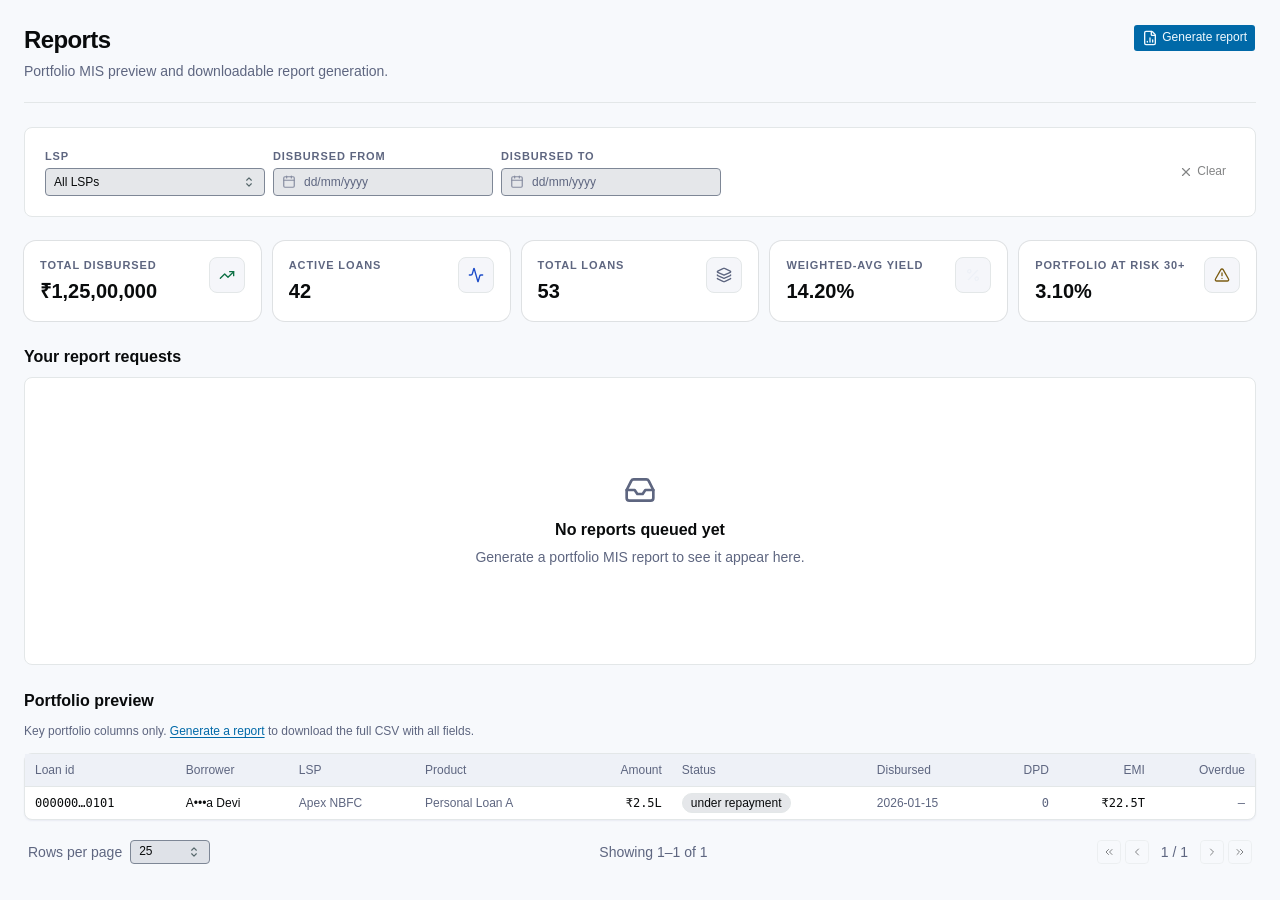
it: ReportsPage — create flow › opens the dialog, submits the form, and the new QUEUED request appears in the list
Expected: the element with test id "mis-kpi-total-loans" is shown, [522,241,758,321]
Click the button "Generate report". click: x=1195, y=38
box: [1133,24,1256,52]
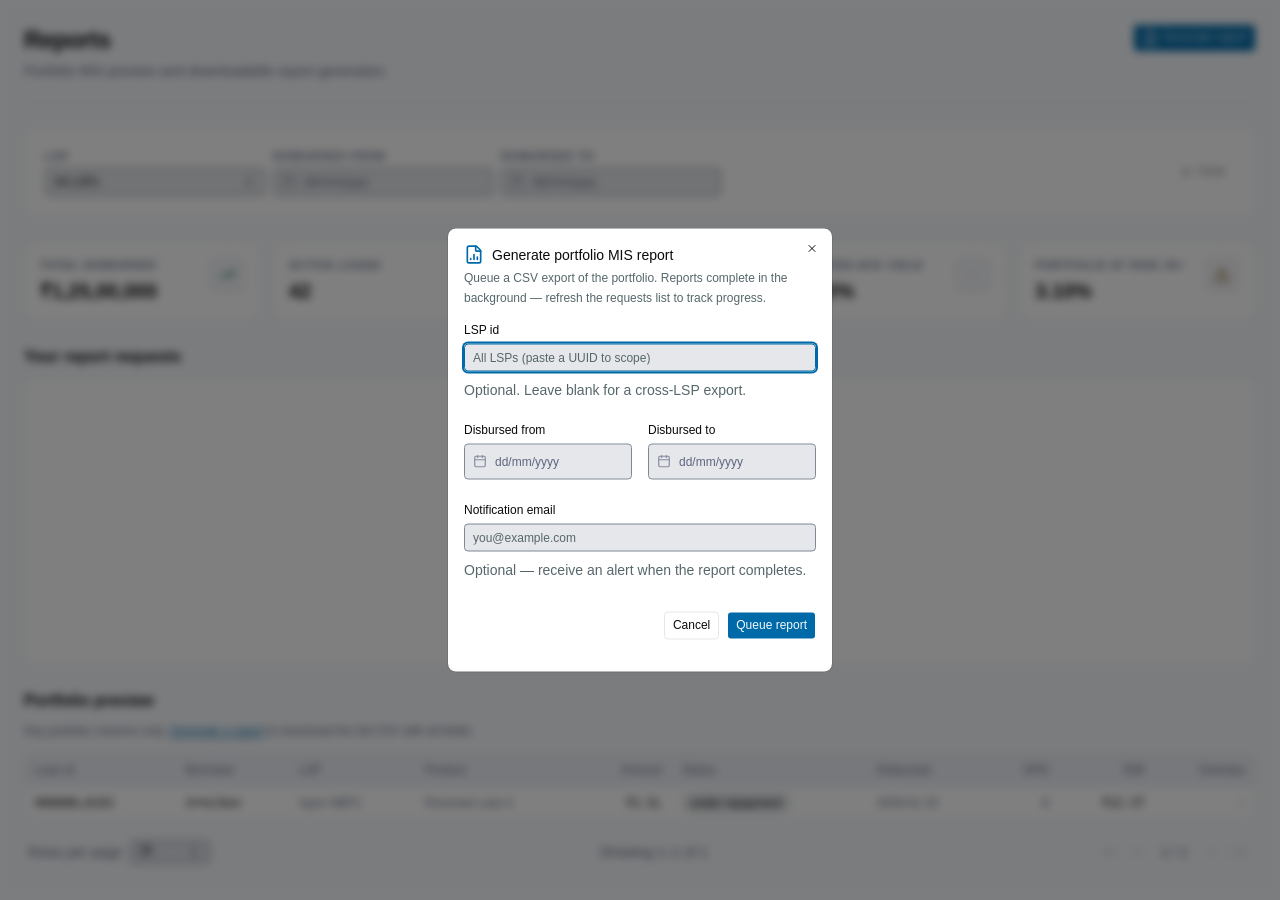
Expected: the heading "Generate portfolio MIS report" is shown, [492,244,673,264]
Click the button "Queue report". click: x=772, y=626
box: [727,612,816,640]
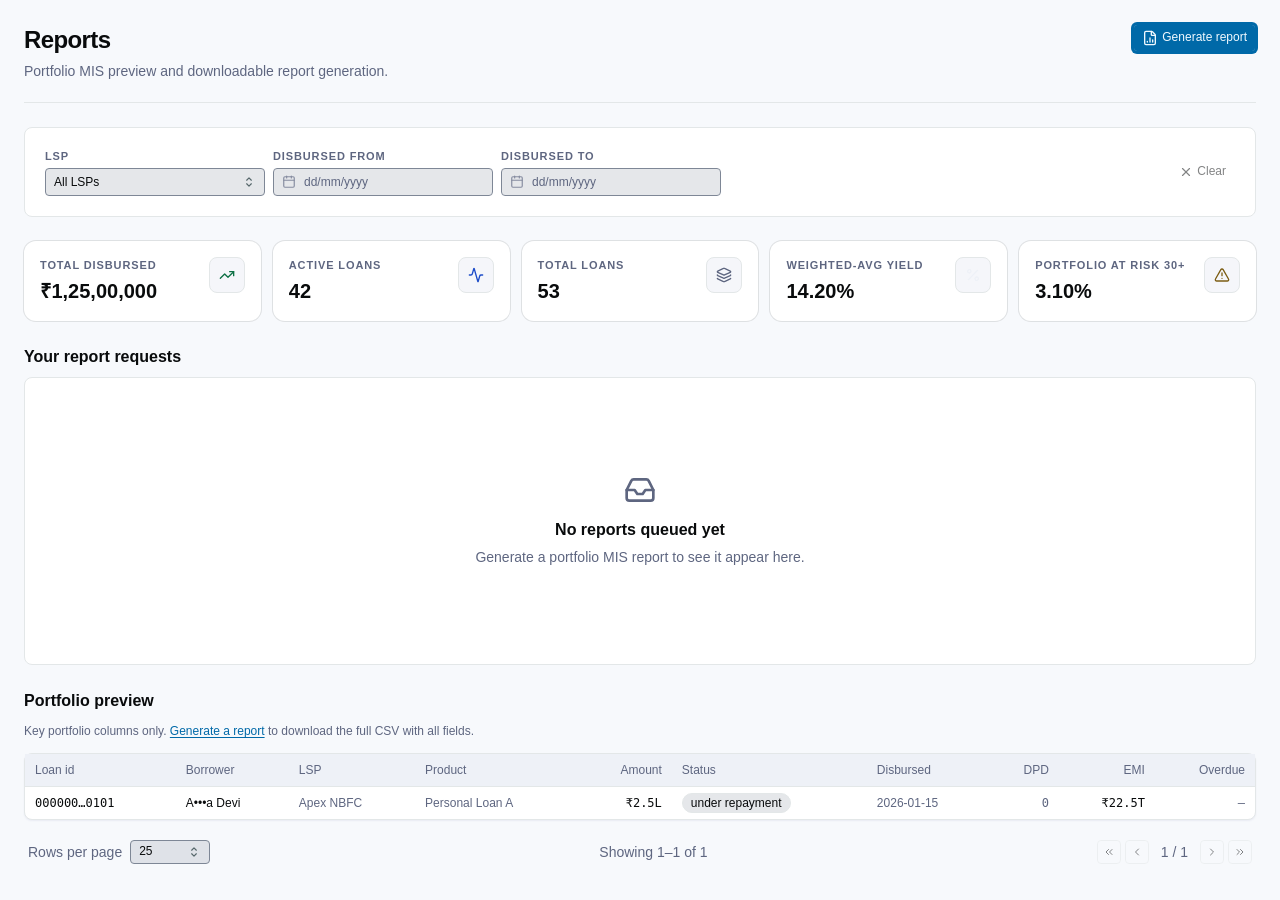
Expected: the dialog is gone
